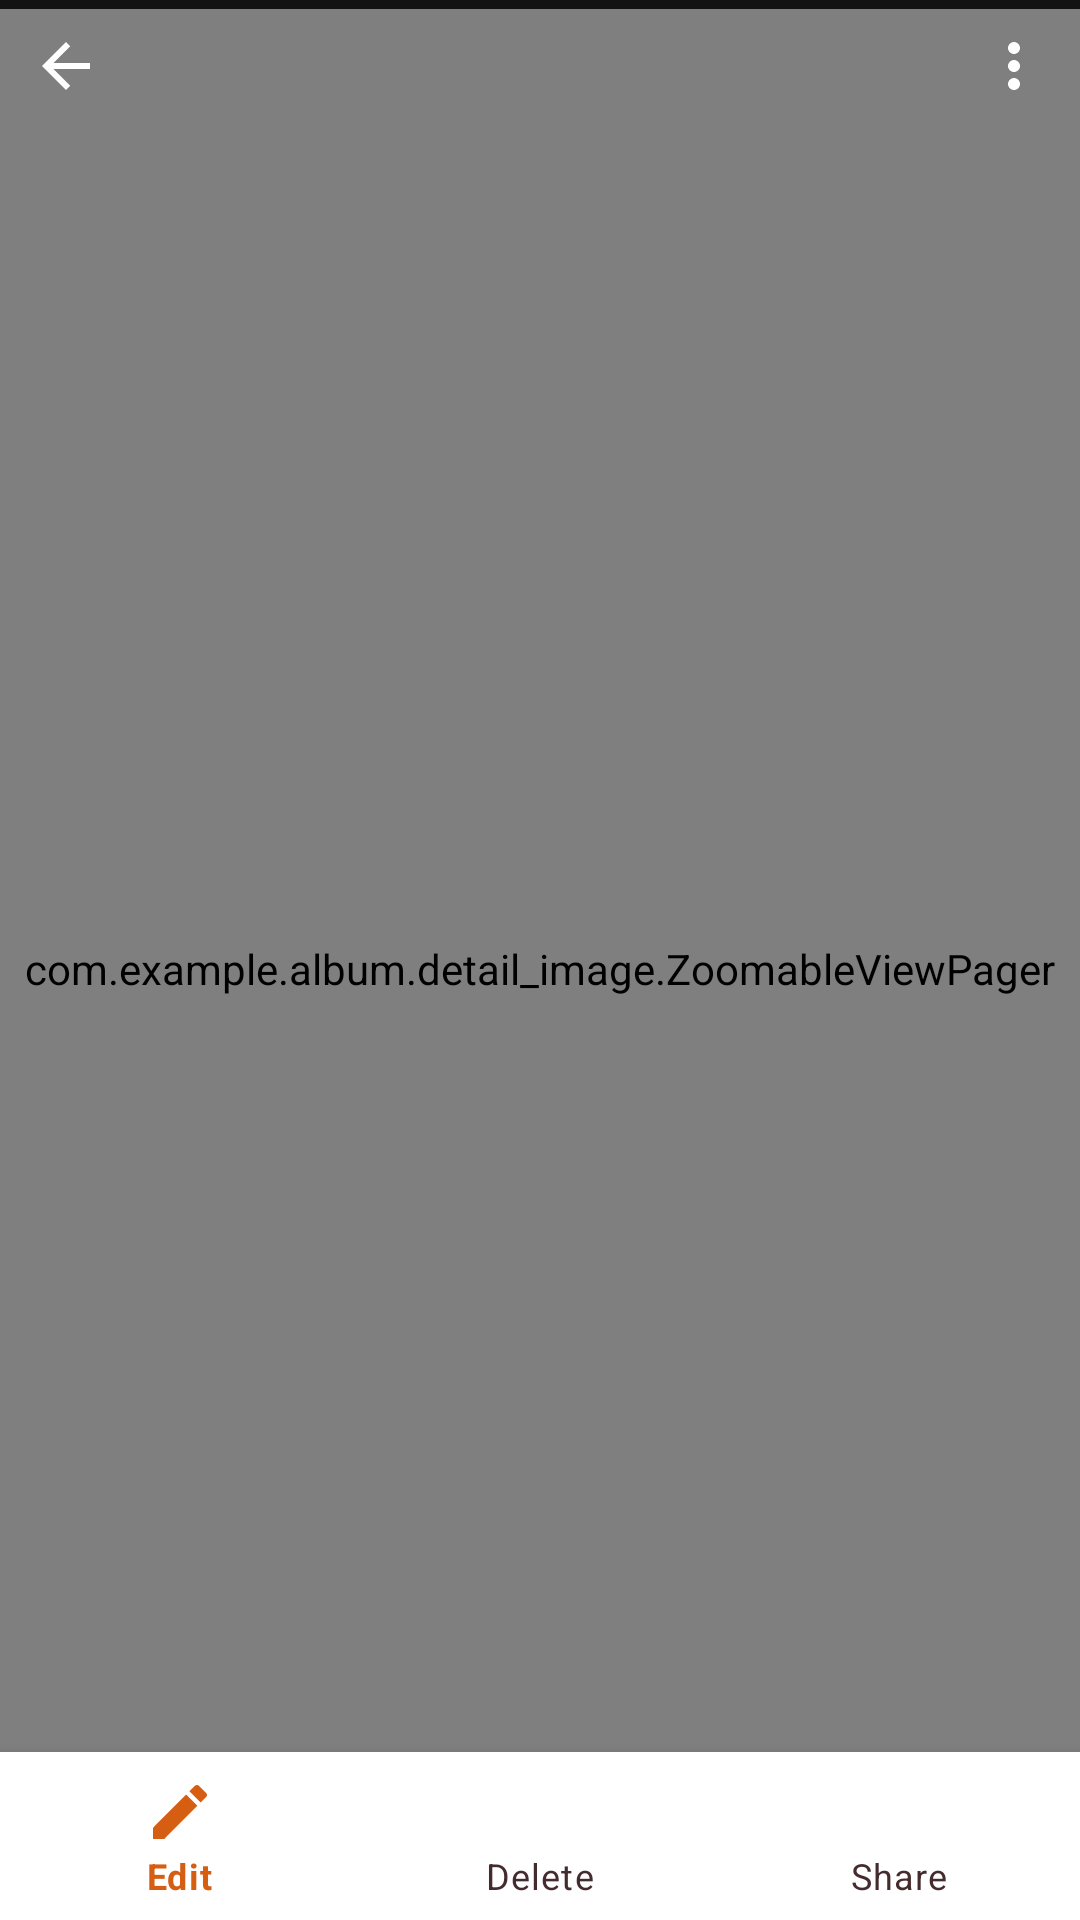

Screen size 1080 x 1920. Icon name, then its box in pixels as (x1, y1, x2, y2):
back: (42, 42, 90, 90)
overflow: (1008, 42, 1020, 90)
